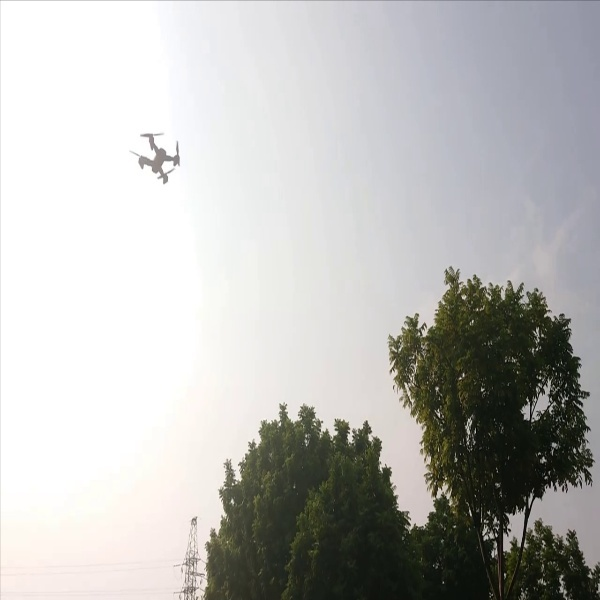drone: (124, 112, 191, 195)
